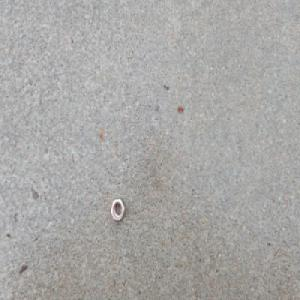Nut: (109, 198, 125, 224)
